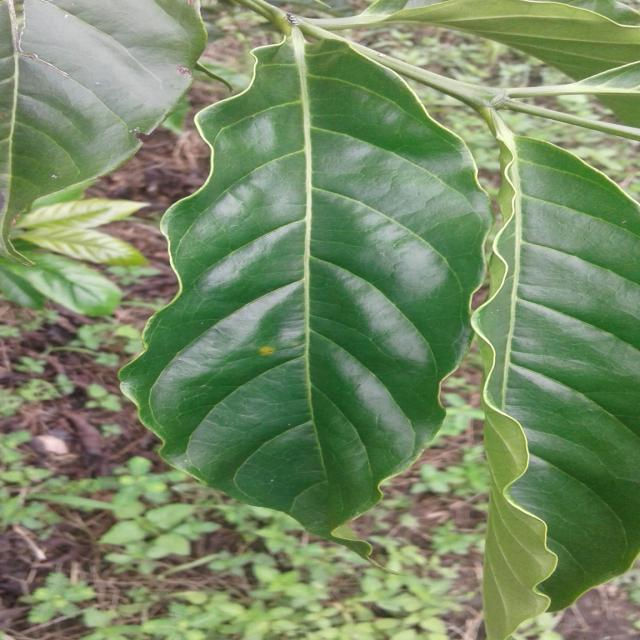Enfermedad-Roya: (119, 31, 492, 539)
